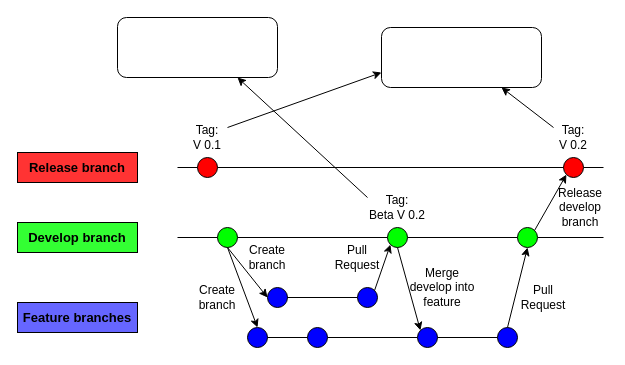
Image size: 625x365. Some labels were removed from this diagram. Here are the shapes that lost their labels. From the top down, the centre of each, then its label:
point (197, 47): Trigger CD on tag, with push to Dockerhub with "beta version number"
point (461, 57): Trigger CD on tag, with push to Dockerhub with latest and version number
